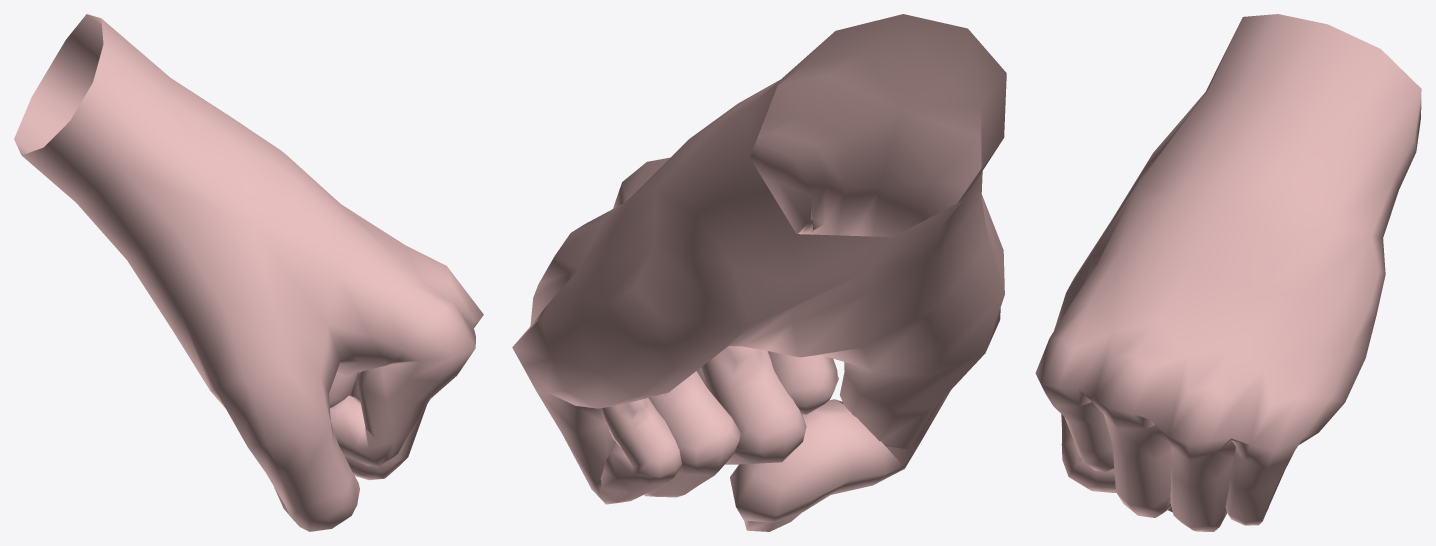
File: Base_Female_A_Fist01.fbx
The picture shows the model from 3 angles, left to right: view 1: azimuth 30°, elevation 25°; view 2: azimuth 150°, elevation 25°; view 3: azimuth 270°, elevation 25°; orthographic projection. The views are drawn at different scales.
Visible parts, largest first — view 1: Base_Female_A_Fist01; view 2: Base_Female_A_Fist01; view 3: Base_Female_A_Fist01.
Part boxes in pixels (x1=…): Base_Female_A_Fist01: x1=14, y1=14, x2=483, y2=531; Base_Female_A_Fist01: x1=512, y1=14, x2=1006, y2=531; Base_Female_A_Fist01: x1=1035, y1=14, x2=1421, y2=531.
Size of the model in its own units: 0.6853 by 0.7909 by 0.6395.
